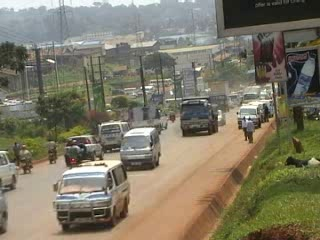Car: (66, 133, 108, 162), (0, 181, 12, 236), (217, 105, 226, 127)
Motorcycle: (16, 143, 38, 176), (67, 139, 83, 168), (44, 136, 59, 166), (166, 106, 177, 123)
